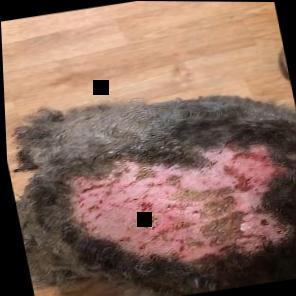skin_lesions: (52, 130, 296, 282)
